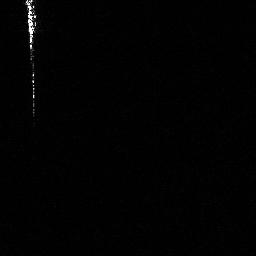ship: (21, 1, 40, 62)
